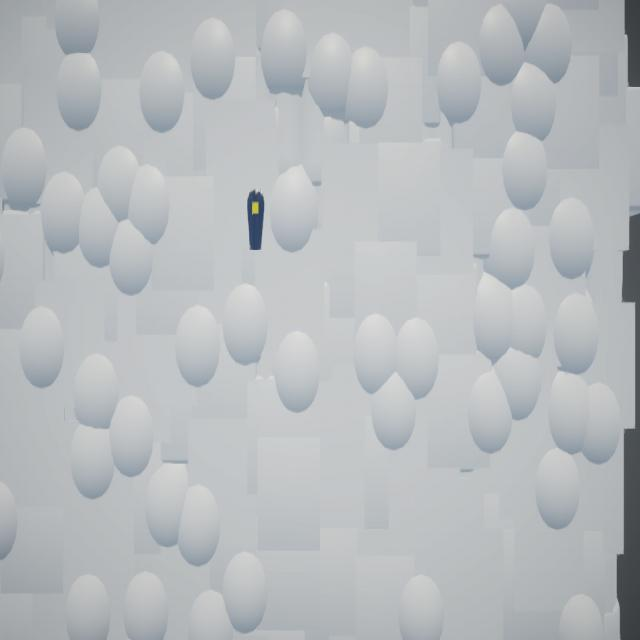handle_folk: (248, 189, 266, 251)
